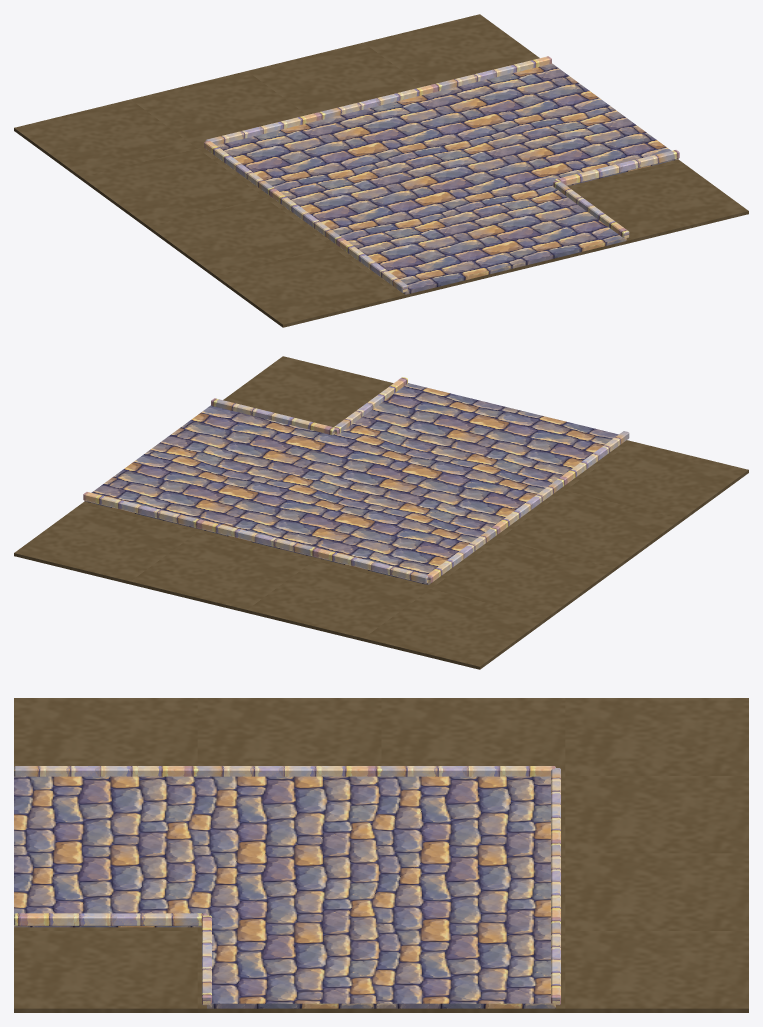
Rendered from Road_Corner.fbx.
3 renders of one model, top to bottom at view 1: azimuth 30°, elevation 25°; view 2: azimuth 150°, elevation 25°; view 3: azimuth 270°, elevation 25°, orthographic. The views are drawn at different scales.
Visible parts, largest first — view 1: Road_Corner.001; view 2: Road_Corner.001; view 3: Road_Corner.001.
Part boxes in pixels (left/top/right/bottom): Road_Corner.001: left=14, top=14, right=748, bottom=327; Road_Corner.001: left=14, top=356, right=748, bottom=669; Road_Corner.001: left=14, top=698, right=748, bottom=1012.
Bounding box in the file's own units: 800 × 19.5 × 800.
Materials: 3 (3 with a texture image).
